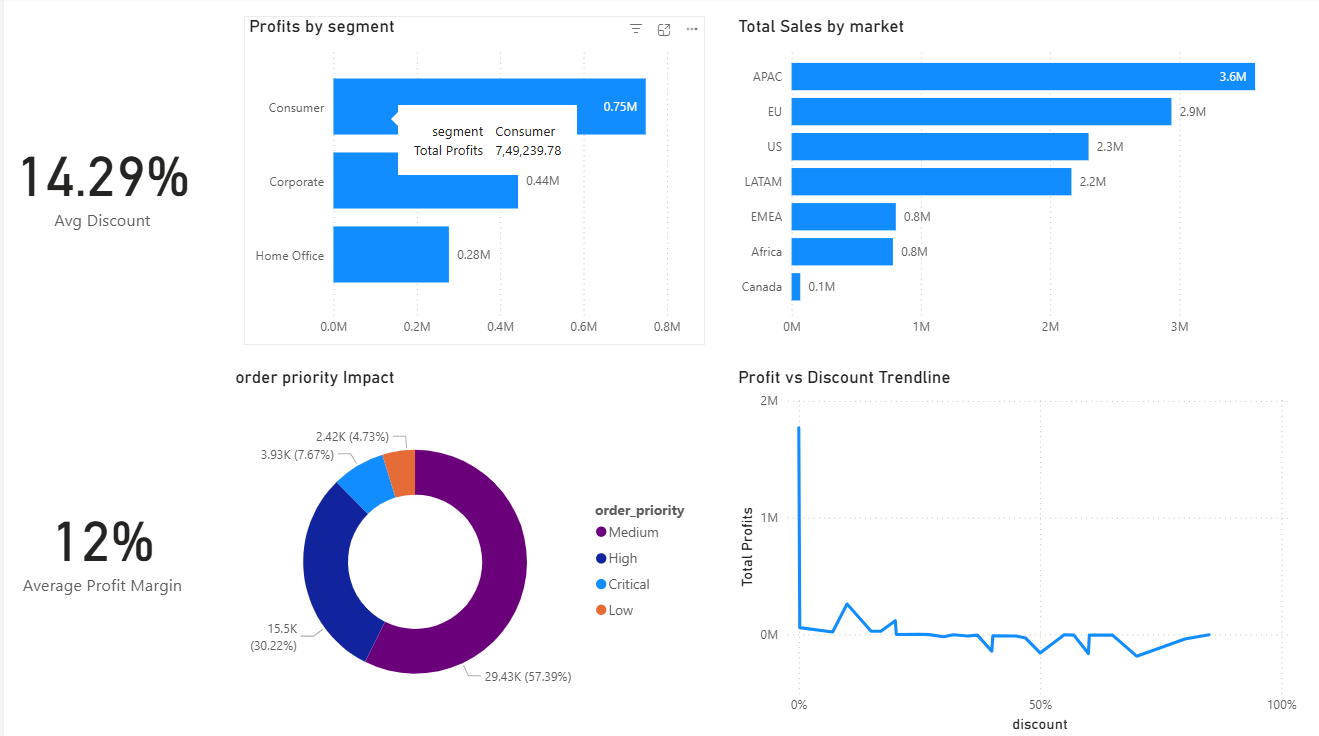

This screenshot's page, from the dashboard's own definition file:
{"tool":"powerbi","page":{"name":"Customer & Profitability Analytics","canvas":[1280,720],"ordinal":2},"visuals":[{"type":"barChart","title":"Profits by segment","fields":{"Y":["Key Measures.Total Profits"],"Category":["SuperStoreOrders.segment"]},"box":[233.4,18.5,448.4,320],"z":0},{"type":"donutChart","title":"order priority Impact","fields":{"Category":["SuperStoreOrders.order_priority"],"Y":["CountNonNull(SuperStoreOrders.order_priority)"]},"box":[219.8,359.9,462,359.9],"z":1000},{"type":"barChart","fields":{"Category":["SuperStoreOrders.market"],"Y":["Key Measures.Total Sales"]},"box":[709.1,18.5,553.4,320],"z":2000},{"type":"lineChart","title":"Profit vs Discount Trendline","fields":{"Category":["SuperStoreOrders.discount"],"Y":["Key Measures.Total Profits"]},"box":[709.1,359.9,553.4,359.9],"z":3000},{"type":"card","fields":{"Values":["Key Measures.Avg Discount"]},"box":[0,18.5,191.6,320],"z":3001},{"type":"card","fields":{"Values":["Key Measures.Average Profit Margin"]},"box":[0,359.9,191.6,347.2],"z":3002}]}

Visuals, with their boxes in screenshot pixels (x1, y1, x2, y2), scaled from the page's 1280x720 canvas onto the 1319x736 screenshot:
"Profits by segment" barChart: {"left": 241, "top": 19, "right": 703, "bottom": 346}
"order priority Impact" donutChart: {"left": 226, "top": 368, "right": 703, "bottom": 735}
barChart - SuperStoreOrders.market x Key Measures.Total Sales: {"left": 731, "top": 19, "right": 1301, "bottom": 346}
"Profit vs Discount Trendline" lineChart: {"left": 731, "top": 368, "right": 1301, "bottom": 735}
card - Key Measures.Avg Discount: {"left": 0, "top": 19, "right": 197, "bottom": 346}
card - Key Measures.Average Profit Margin: {"left": 0, "top": 368, "right": 197, "bottom": 723}
